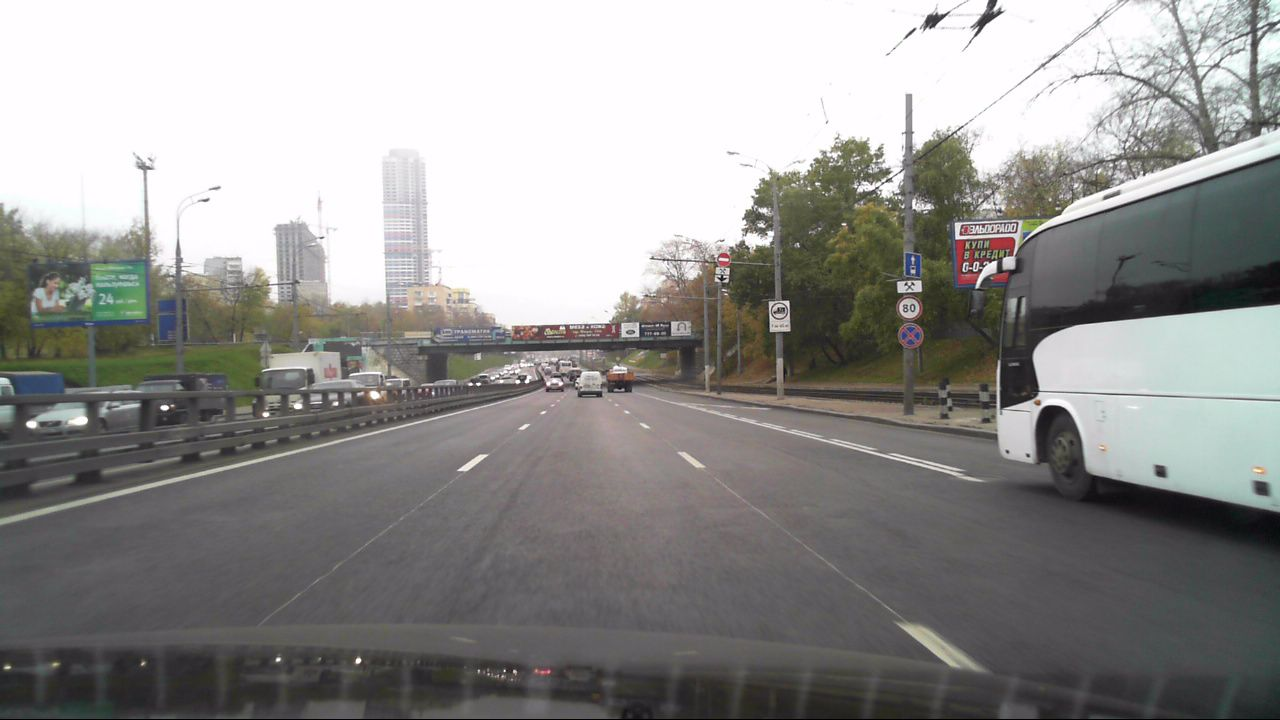No Parking: (897, 322, 923, 349)
